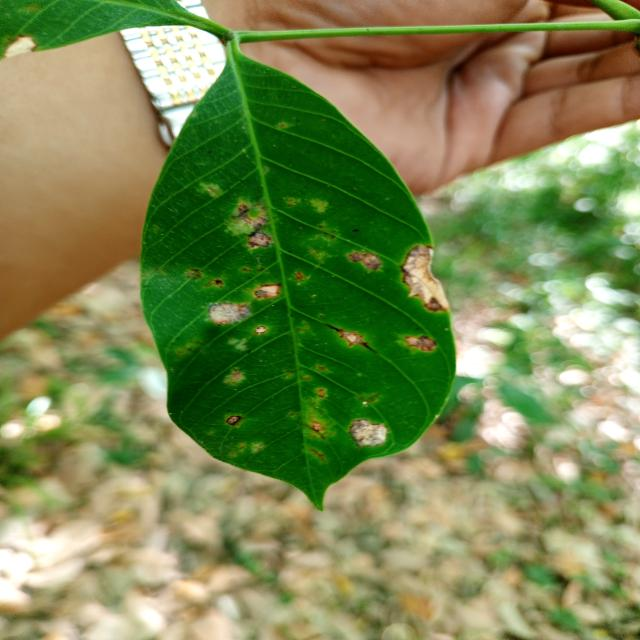Corynespora: (326, 323, 377, 352)
Leaf-Blight: (401, 244, 448, 311), (350, 418, 388, 446), (207, 303, 251, 324), (5, 34, 38, 57), (258, 284, 280, 297)
